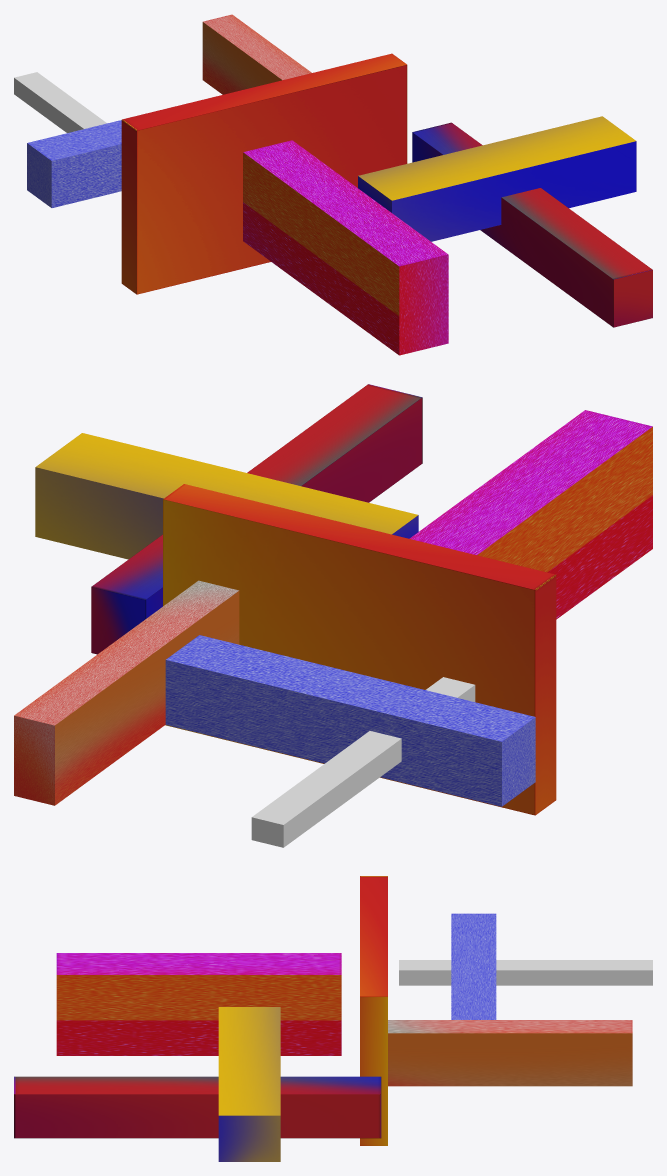
The model's file is Marker_30_Cube6.fbx.
3 views of the same model, one above another, from view 1: azimuth 30°, elevation 25°; view 2: azimuth 150°, elevation 25°; view 3: azimuth 270°, elevation 25° (orthographic). The views are drawn at different scales.
Visible parts, largest first — view 1: Cube.006, Cube.007, Cube.004, Cube.005, Cube.001, Cube.002, Cube.003; view 2: Cube.006, Cube.001, Cube.007, Cube.002, Cube.004, Cube.005, Cube.003; view 3: Cube.007, Cube.005, Cube.002, Cube.004, Cube.006, Cube.003, Cube.001.
Part boxes in pixels (x1,y1,x2,y2): Cube.006: (121,53,407,294); Cube.007: (243,140,448,355); Cube.004: (358,116,636,241); Cube.005: (412,122,652,327); Cube.001: (27,120,121,207); Cube.002: (202,14,311,94); Cube.003: (14,72,106,132); Cube.006: (163,484,556,815); Cube.001: (165,635,535,806); Cube.007: (409,410,652,619); Cube.002: (14,580,239,805); Cube.004: (35,433,418,559); Cube.005: (91,384,422,654); Cube.003: (251,677,475,847); Cube.007: (56,953,341,1055); Cube.005: (14,1076,381,1138); Cube.002: (388,1020,632,1086); Cube.004: (218,1007,280,1161); Cube.006: (360,876,387,1145); Cube.003: (399,960,652,985); Cube.001: (451,913,496,1019).
Bounding box in the file's own units: 562 × 193 × 746.
